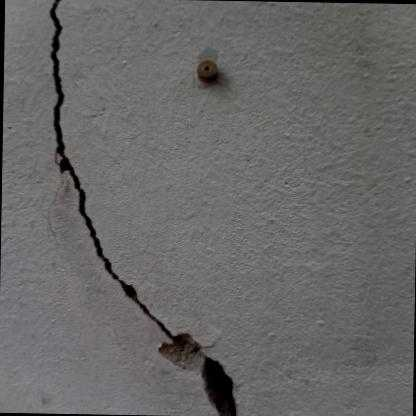crack: (46, 0, 238, 416)
